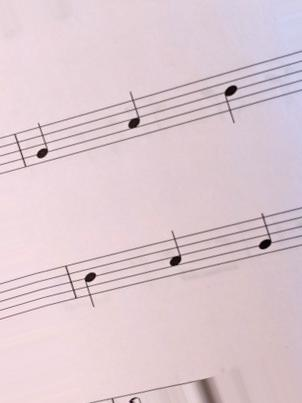A: (119, 87, 144, 141), (165, 226, 186, 283)
B: (77, 255, 105, 313), (219, 68, 243, 129)
G: (28, 119, 55, 170), (252, 207, 277, 262)
